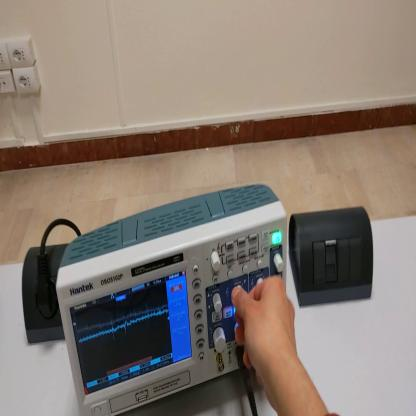hand: (232, 274, 300, 385)
oscilloscope: (59, 185, 288, 415)
socket: (22, 248, 68, 346)
